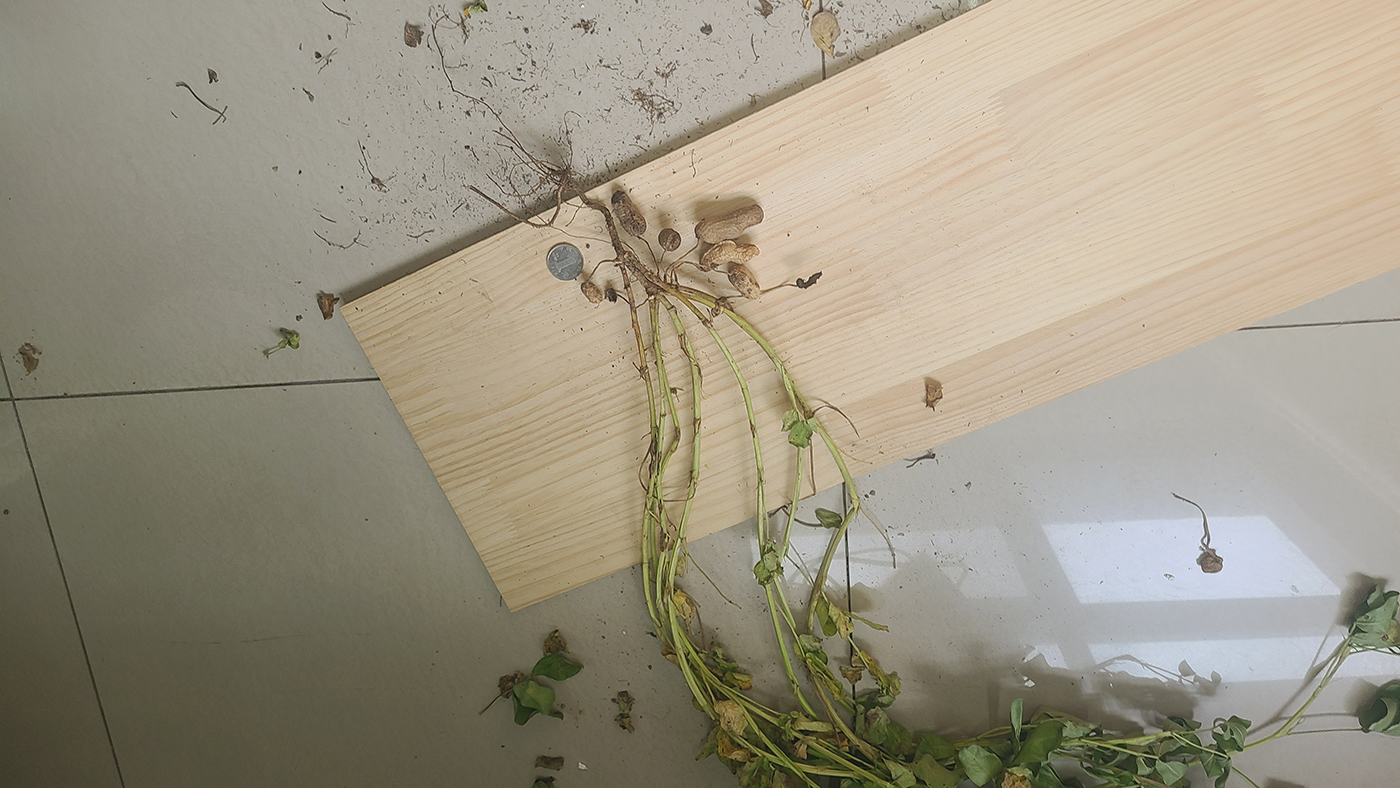h: (695, 204, 764, 242), (698, 239, 759, 271), (729, 266, 761, 301), (581, 280, 602, 305)
l: (611, 191, 646, 236), (659, 229, 681, 251), (797, 271, 823, 289), (604, 289, 618, 303)
